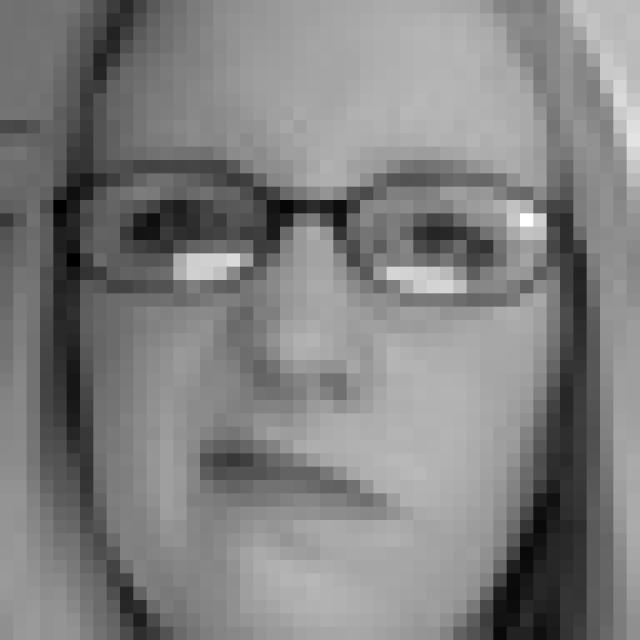disgust: (88, 147, 564, 574)
